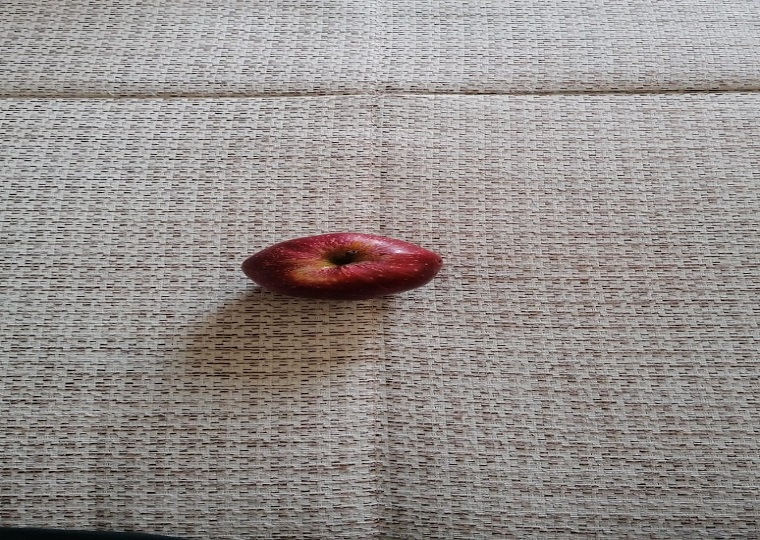elma: (240, 231, 445, 302)
